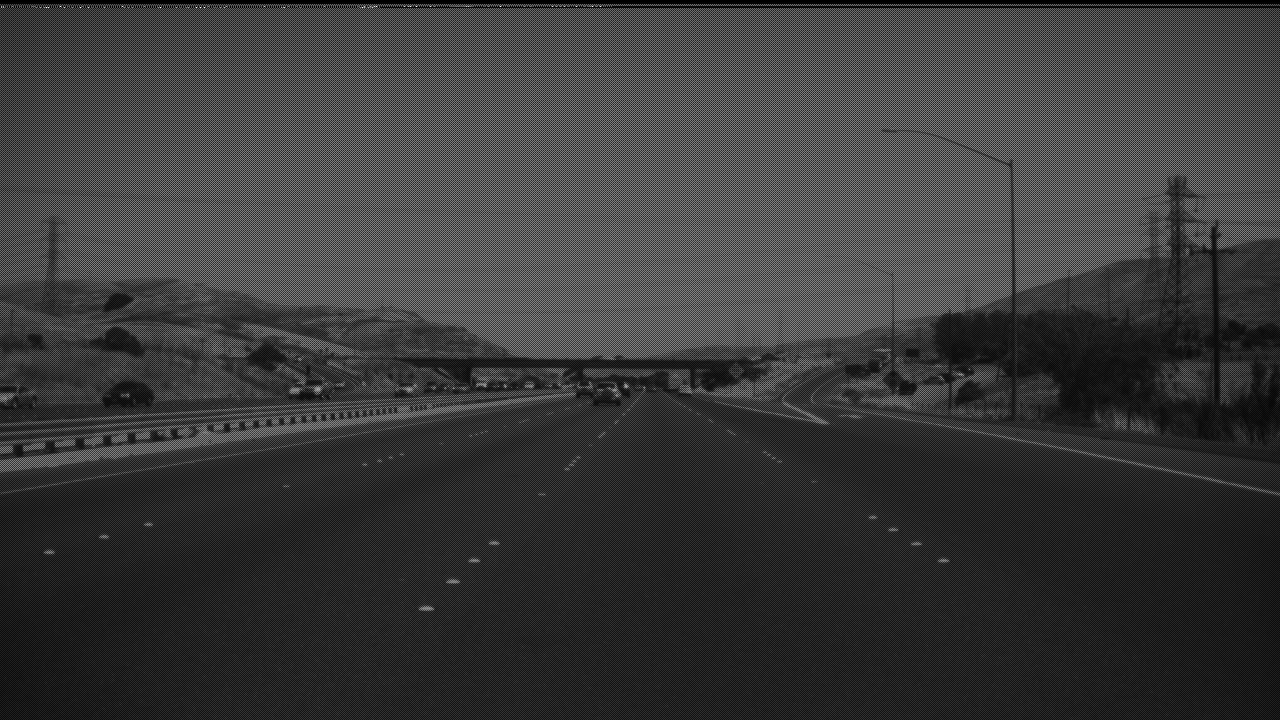pole: (1008, 159, 1017, 410), (1210, 218, 1219, 398), (890, 269, 895, 383)
